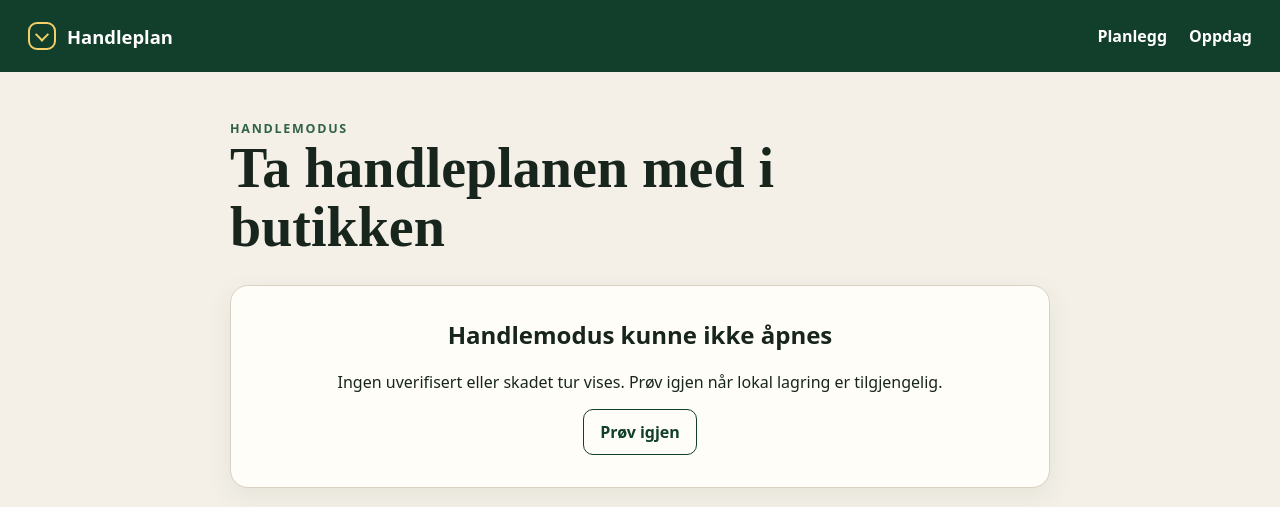
Test case: Handlemodus › fails closed on storage errors and supports an accessible retry
Expected: the heading "Handlemodus kunne ikke åpnes" is shown, [448, 318, 832, 351]
Expected: the message does not show "private IndexedDB detail", [230, 285, 1050, 488]
Click the button "Prøv igjen": click(640, 432) [583, 408, 697, 454]
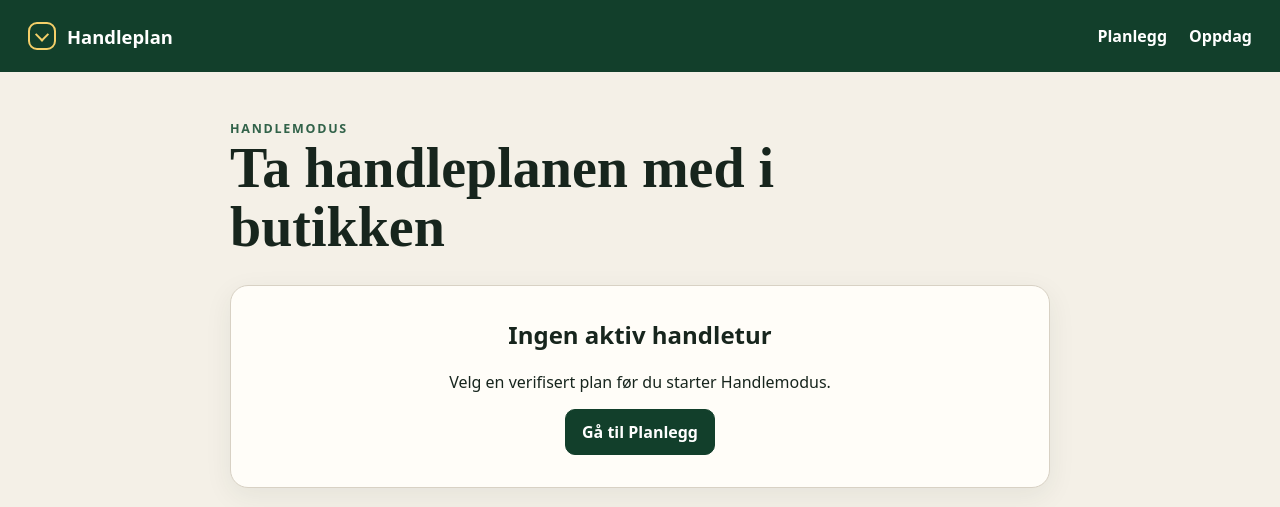
Expected: the heading "Ingen aktiv handletur" is shown, [508, 318, 772, 351]
